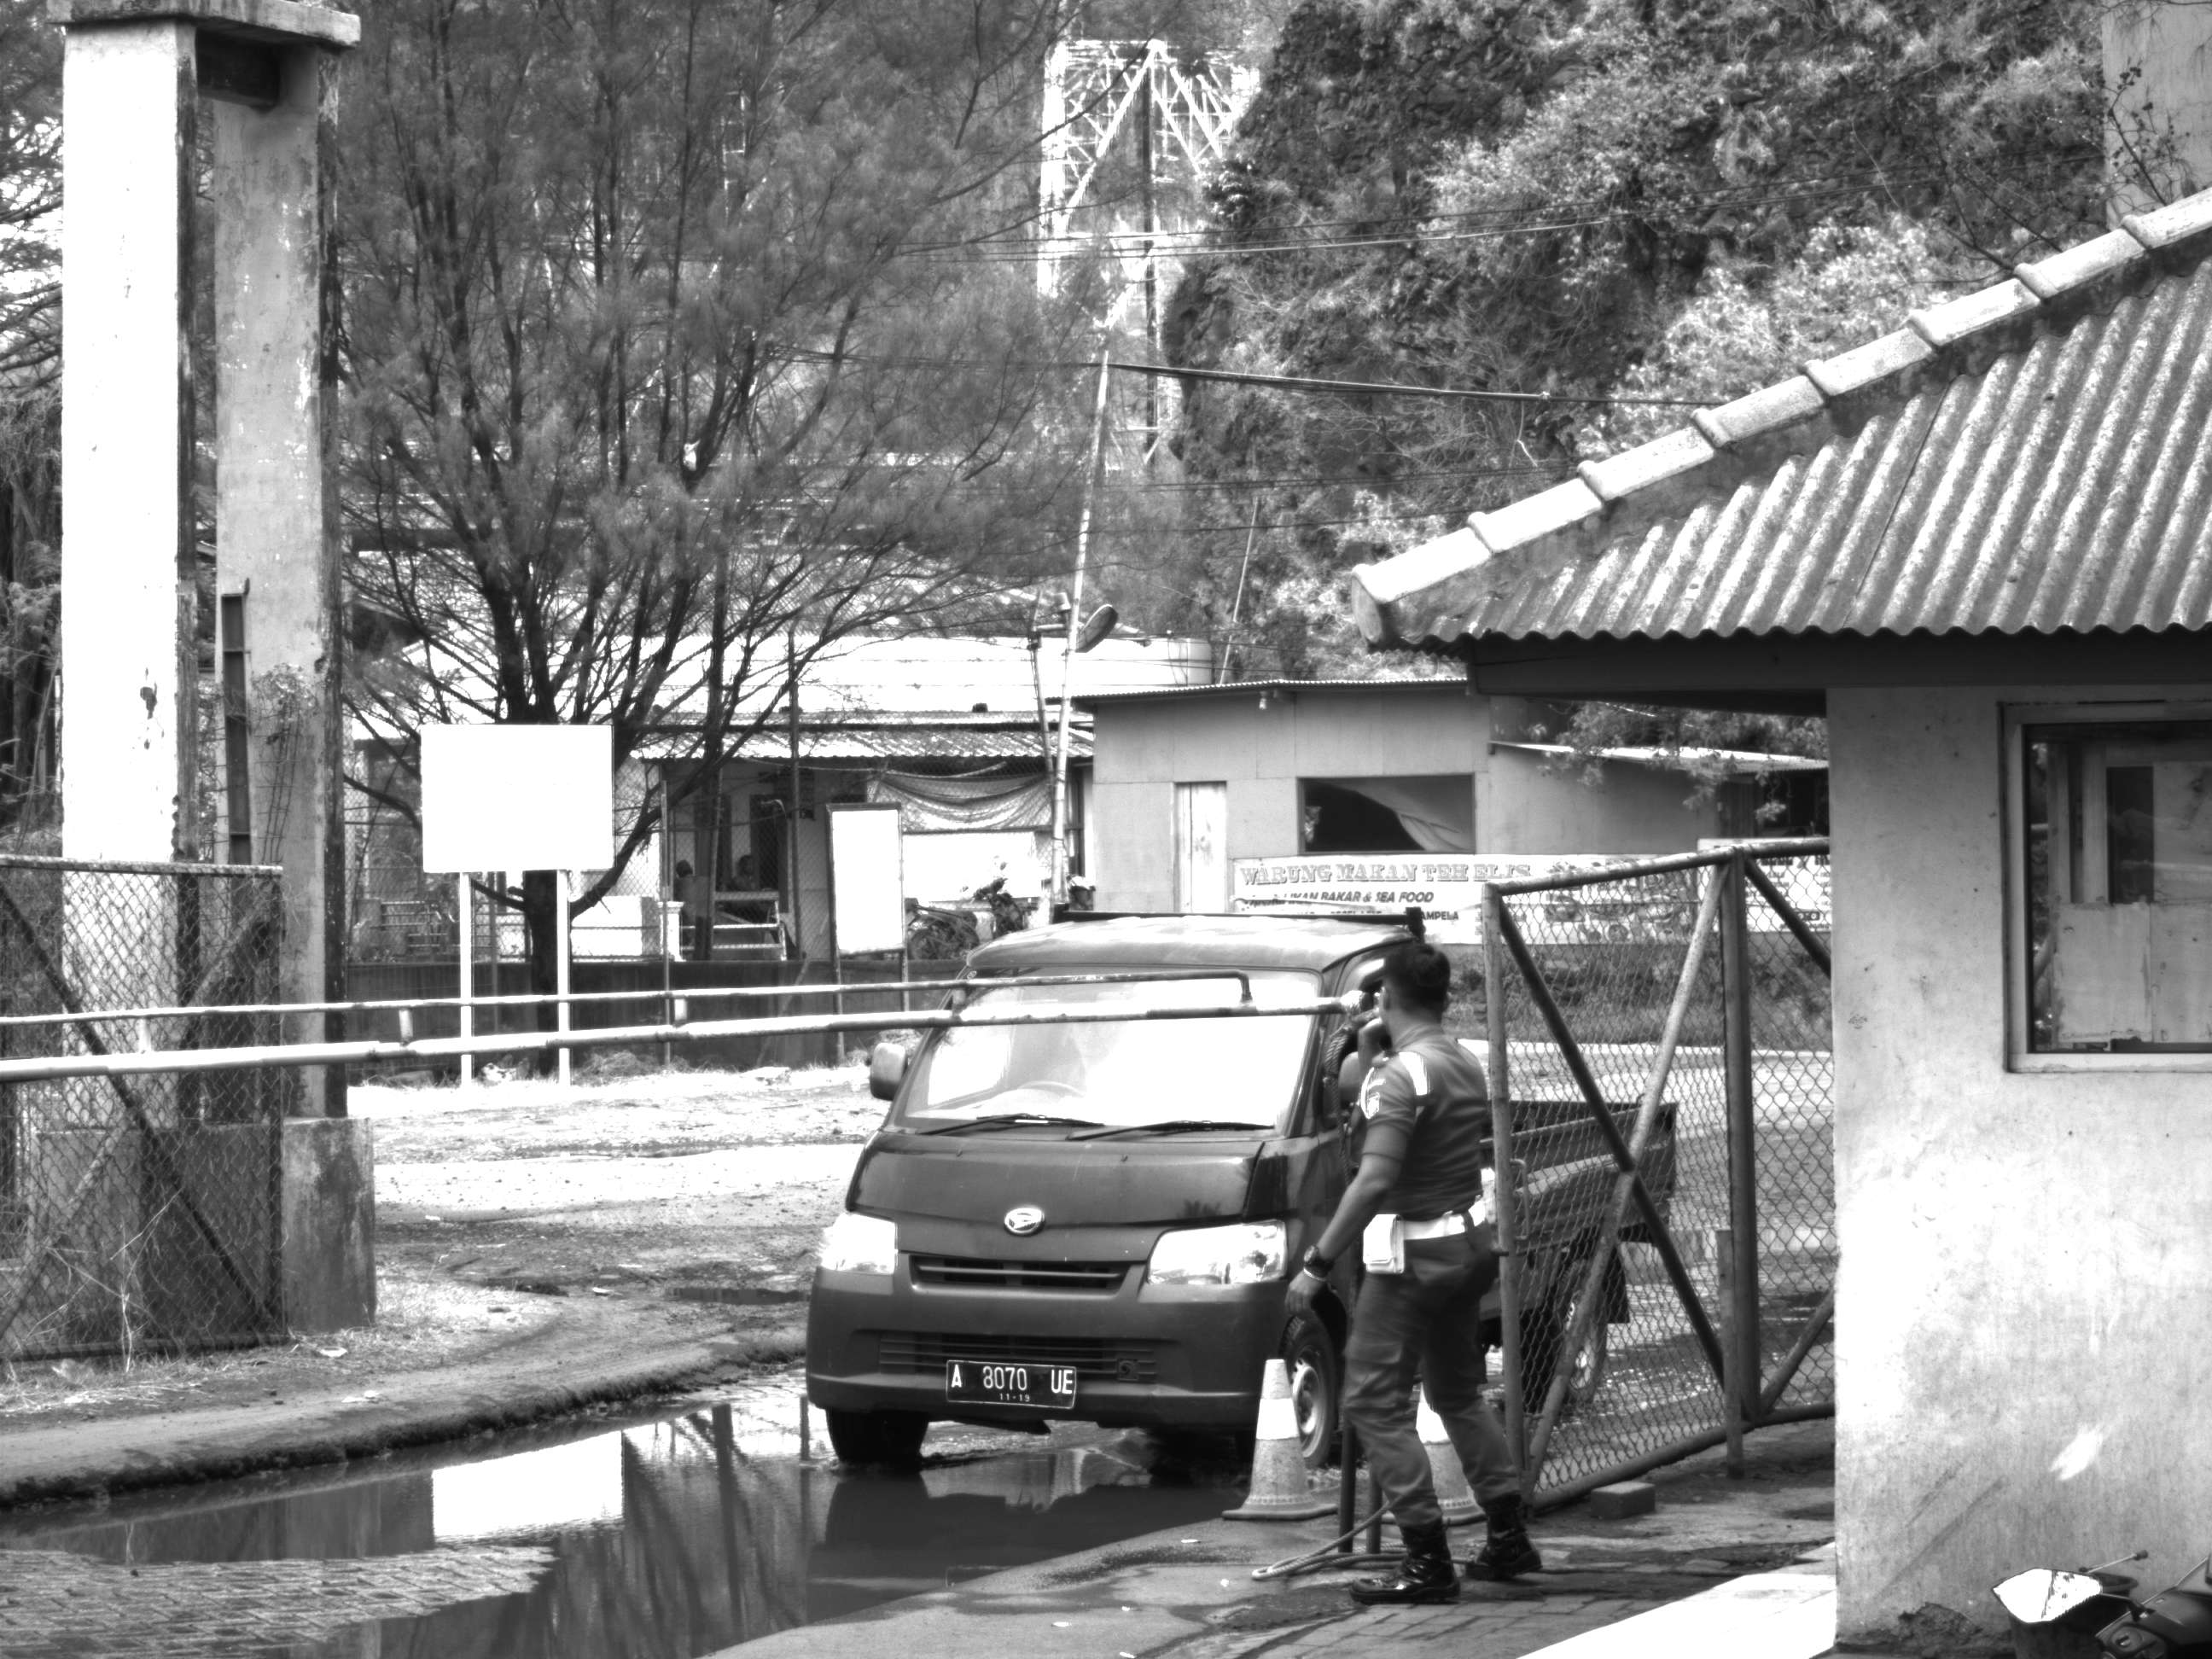day_small_truck_front: (804, 894, 1697, 1474)
plate: (945, 1359, 1081, 1415)
